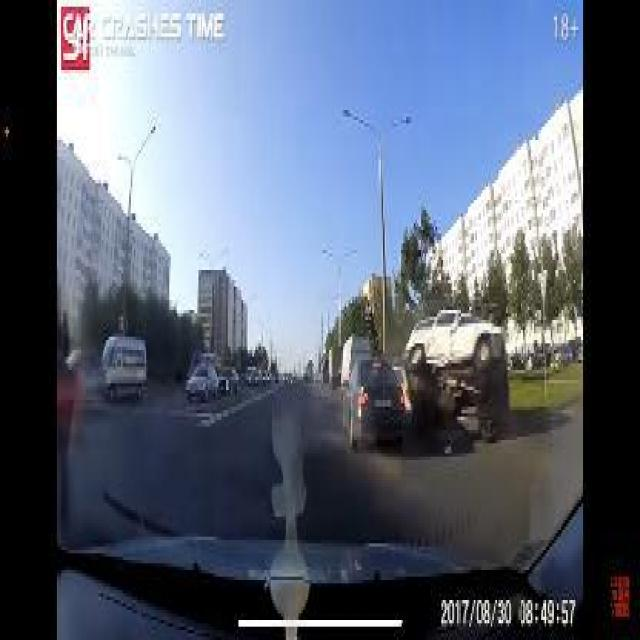accident: (403, 294, 517, 464)
